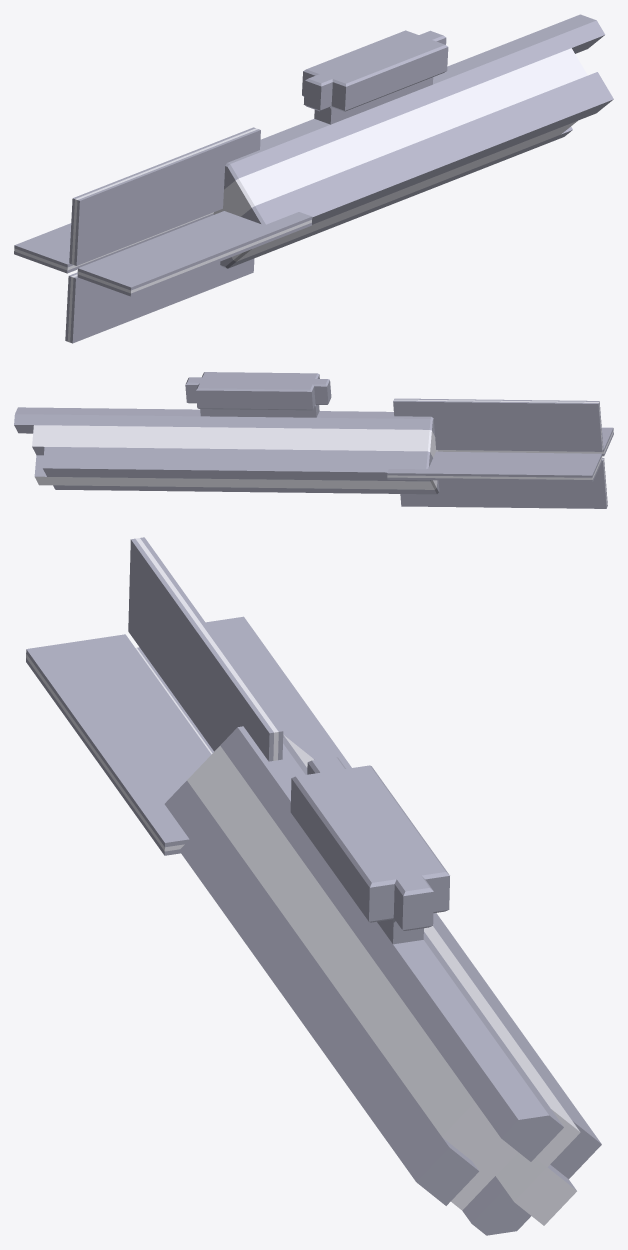
File: BrokenShip.fbx
3 views of the same model, one above another, from view 1: azimuth 30°, elevation 25°; view 2: azimuth 150°, elevation 25°; view 3: azimuth 270°, elevation 25° (orthographic). The views are drawn at different scales.
Parts seen in each view (by area): view 1: Broken_Ship; view 2: Broken_Ship; view 3: Broken_Ship.
Part boxes in pixels (left/top/right/bottom): Broken_Ship: left=14, top=14, right=613, bottom=343; Broken_Ship: left=14, top=372, right=613, bottom=508; Broken_Ship: left=26, top=537, right=601, bottom=1235.
Size of the model in its own units: 80.22 by 19.22 by 39.39.
